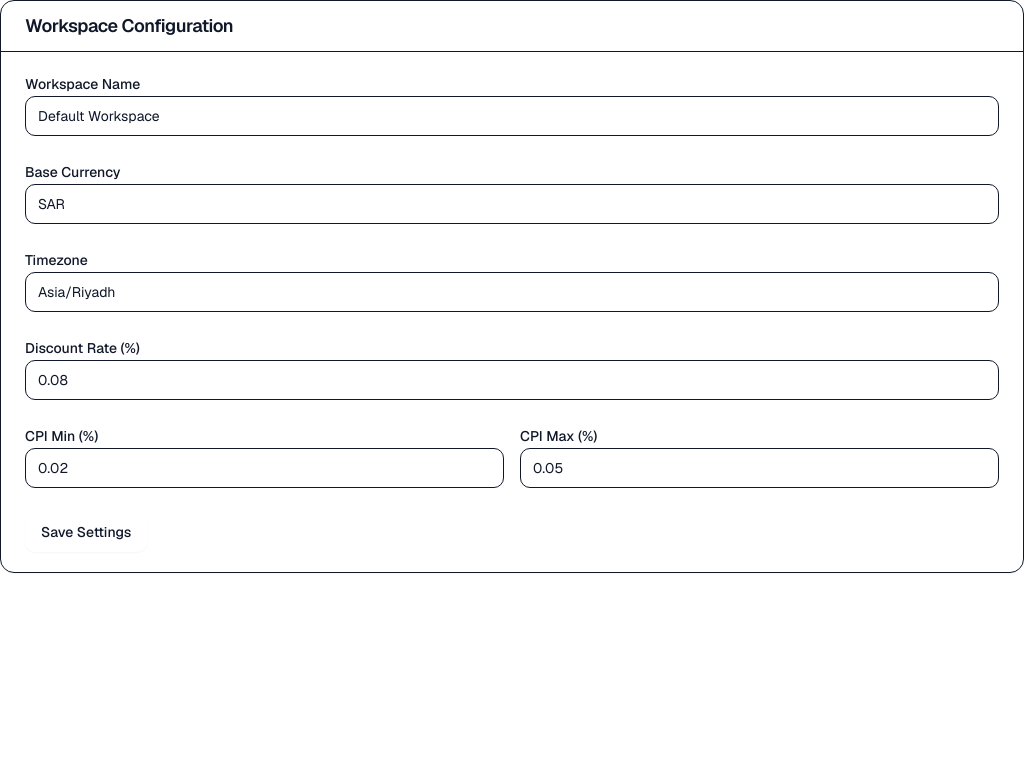
it: WorkspaceSettings component › loads workspace settings and submits updates
Replace the text in the field labelled "Workspace Name" with "New Workspace Name" at coordinates (512, 116), box [25,96,999,136]
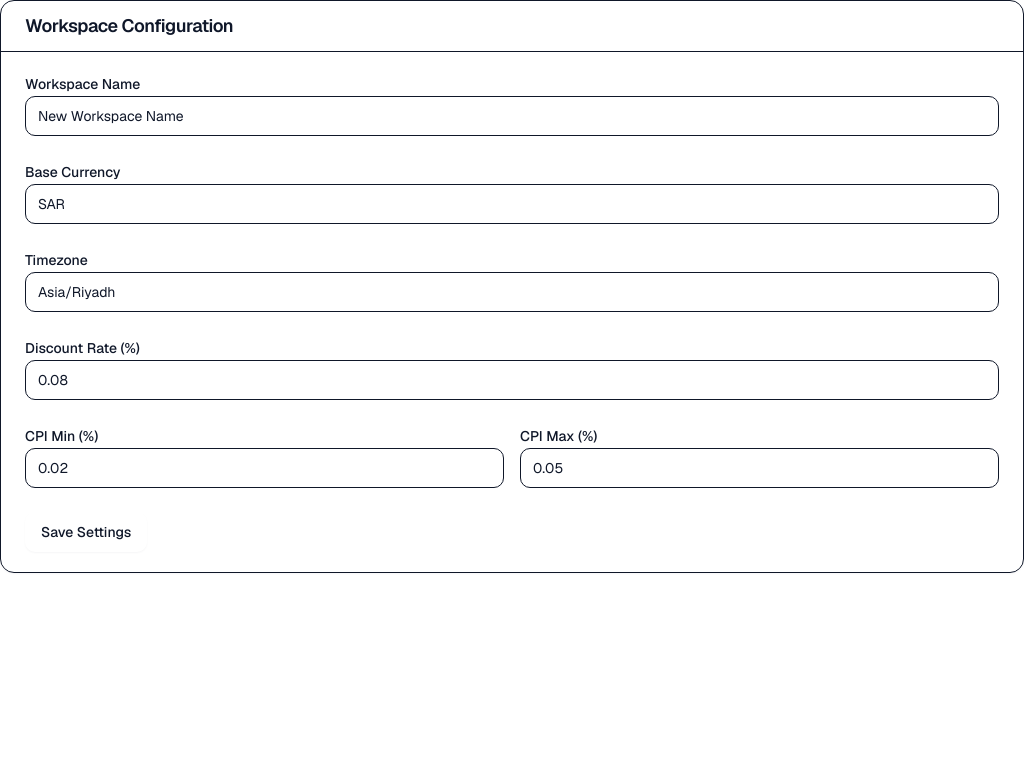
Click the button "Save Settings".
click(86, 532)  # box [25,512,147,552]
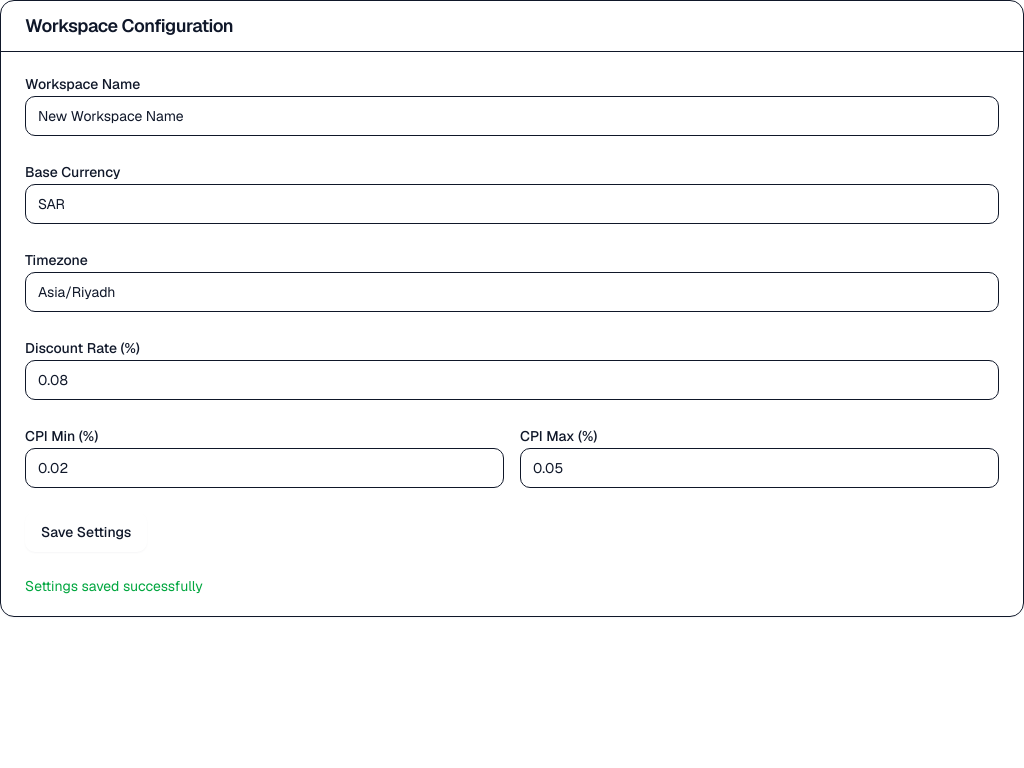
Now the text "Settings saved successfully" is shown, box [25,577,203,595]
